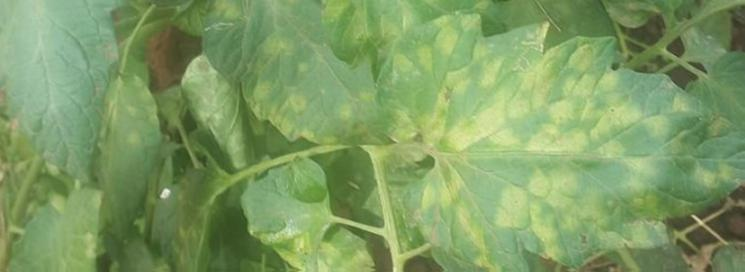Tomato mold leaf: (395, 12, 745, 272), (197, 0, 392, 147), (0, 0, 129, 185), (334, 0, 492, 86), (10, 192, 103, 272)
